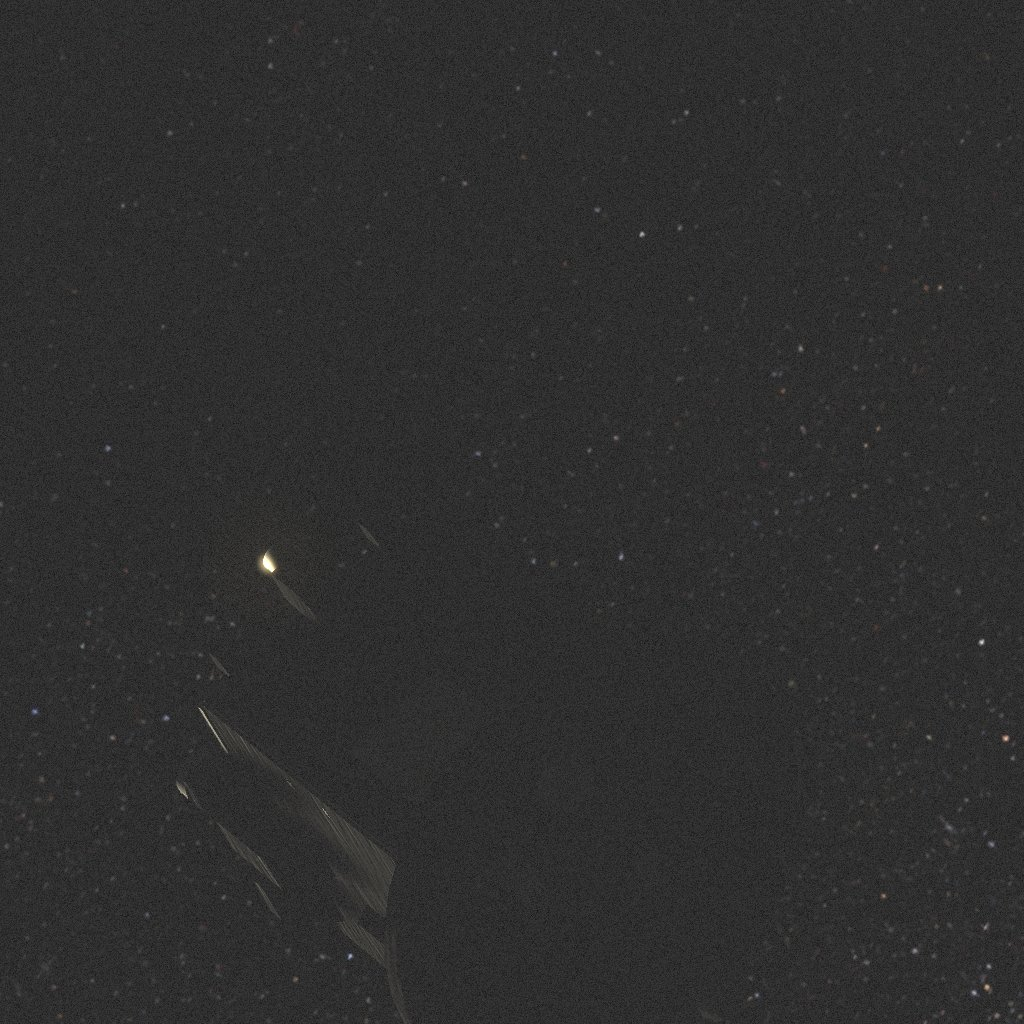proba_3_ocs: (176, 497, 803, 1024)
